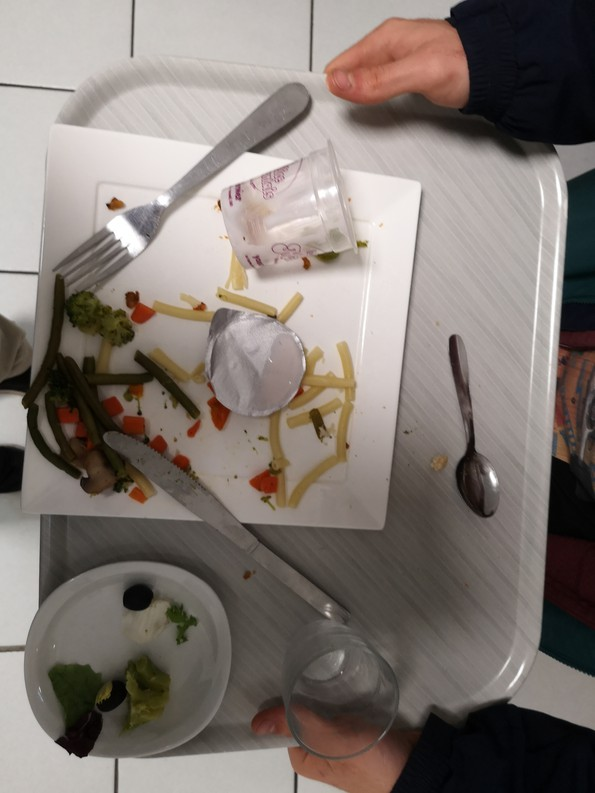cutlery: (54, 76, 323, 289), (105, 430, 363, 633), (440, 331, 512, 529)
orga: (24, 282, 140, 496), (60, 652, 173, 770), (126, 578, 202, 650)
trash: (221, 139, 373, 276), (207, 306, 310, 426)
